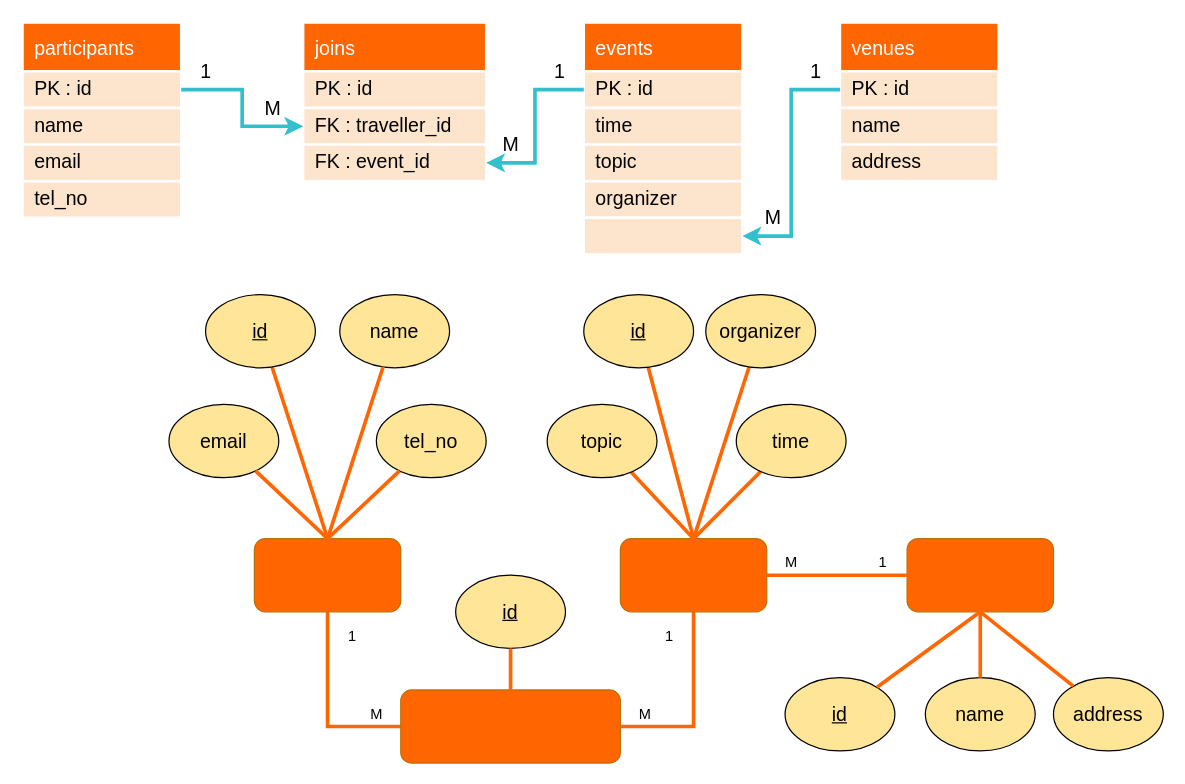
Image size: 1185x784. Some labels were removed from this diagram. Here are the shapes that lost their labels. From the top down, the centre of each, then its label:
At point 662,235: "FK : venue_id".
At point 327,574: "Participant".
At point 693,574: "Event".
At point 979,574: "Venue".
At point 510,726: "Join".
